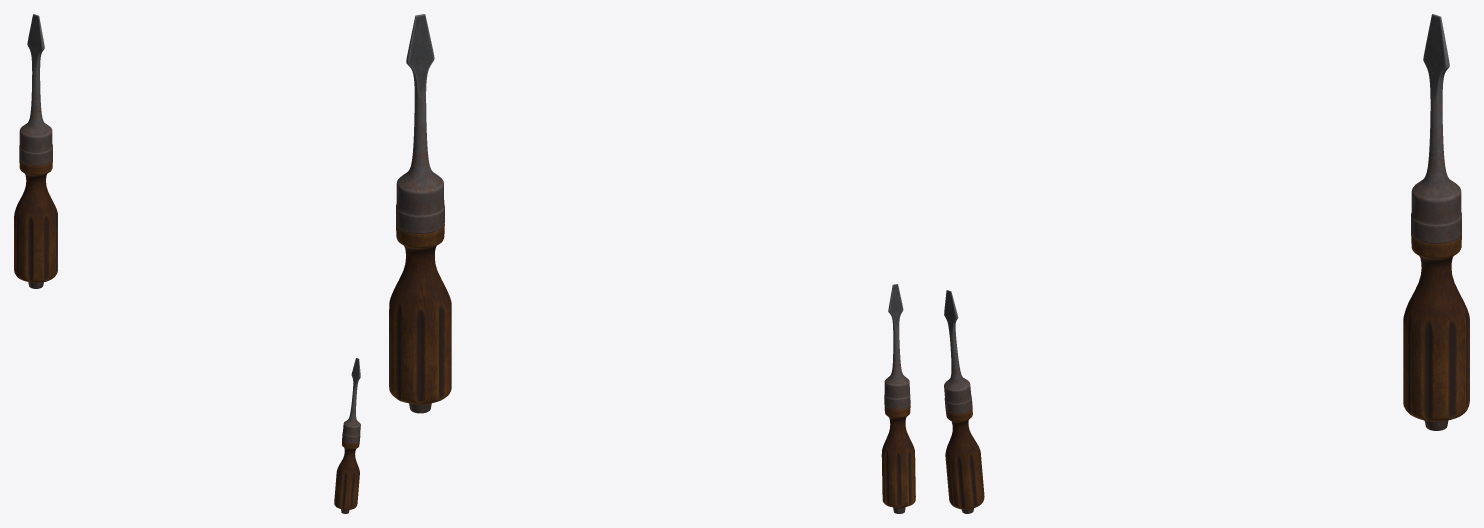
Rendered from screwdriver-view.glb.
The picture shows the model from 3 angles, left to right: view 1: azimuth 90°, elevation 25°; view 2: azimuth 150°, elevation 25°; view 3: azimuth 270°, elevation 25°; orthographic projection. The views are drawn at different scales.
Parts seen in each view (by area): view 1: WorldModel, Screwdriver.001; view 2: WorldModel, Screwdriver.001; view 3: WorldModel, Screwdriver.001.
Part boxes in pixels (bbox=[...]): WorldModel: bbox=[14, 14, 57, 288]; Screwdriver.001: bbox=[334, 358, 360, 513]; WorldModel: bbox=[389, 14, 451, 413]; Screwdriver.001: bbox=[881, 284, 915, 513]; WorldModel: bbox=[1403, 14, 1469, 430]; Screwdriver.001: bbox=[944, 290, 984, 513].
Size of the model in its own units: 0.5339 by 1.03 by 0.7878.
2 materials, 2 textured.
